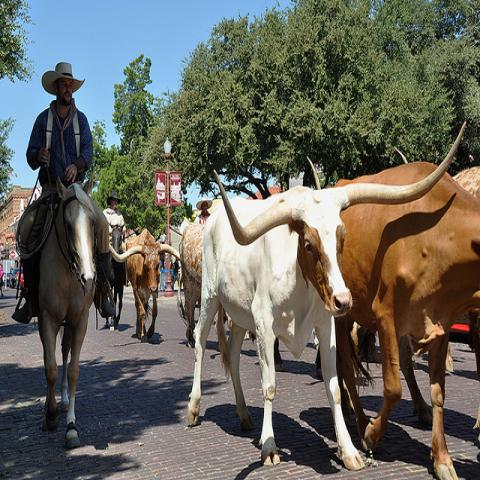car: (9, 268, 20, 288), (5, 274, 11, 286)
